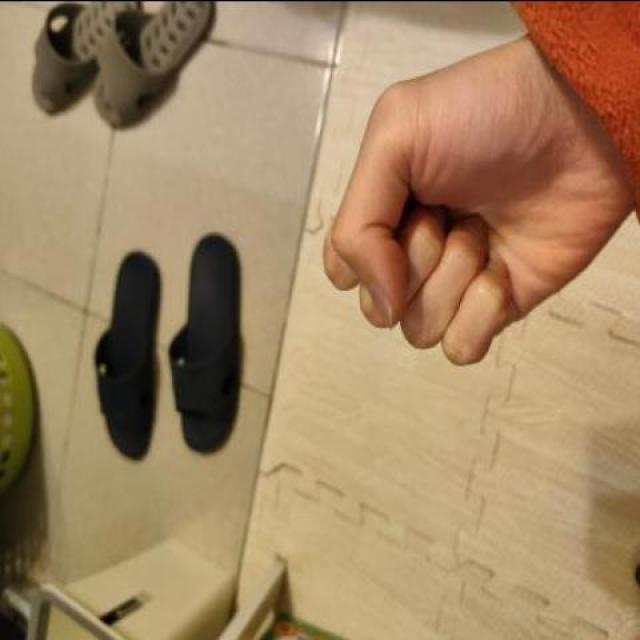Closed Hand: (319, 8, 636, 376)
